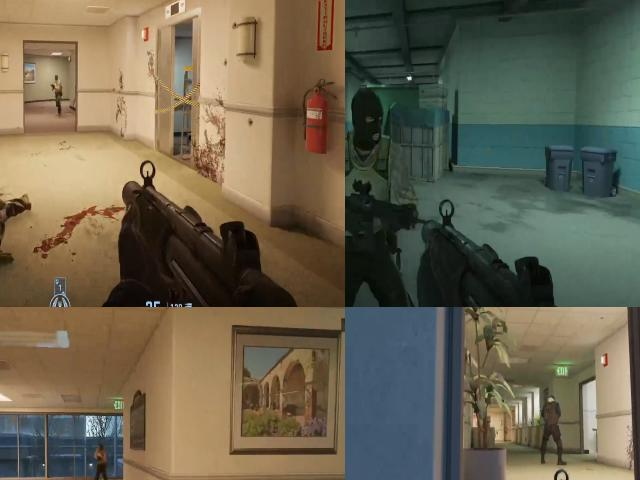CT: (541, 389, 562, 450)
CT-Head: (546, 393, 557, 408)
T: (345, 118, 413, 250), (90, 433, 110, 480), (48, 71, 68, 101)
T-Head: (345, 80, 389, 150), (95, 440, 106, 455), (51, 73, 61, 83)
